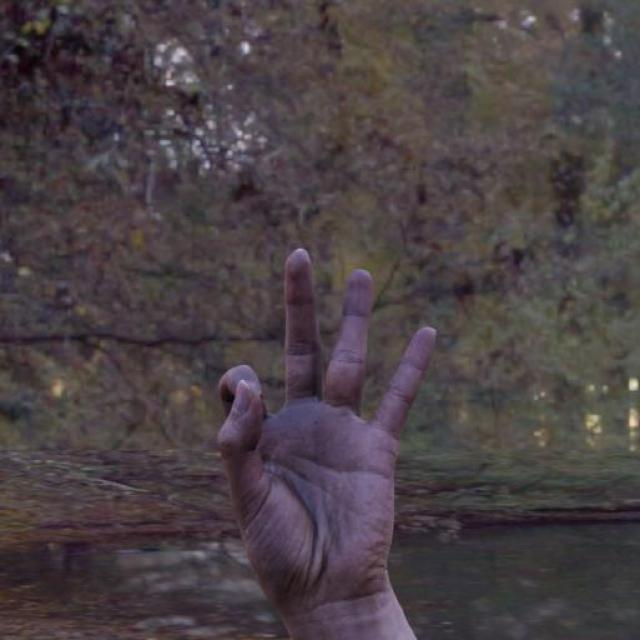F: (212, 246, 438, 613)
